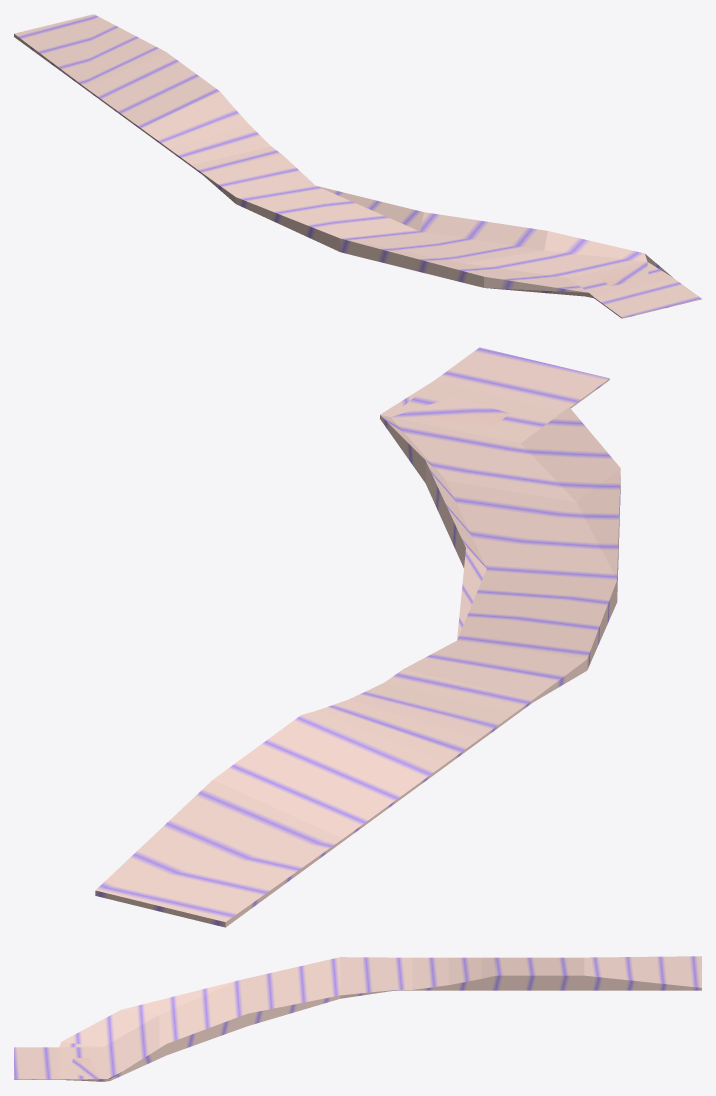
The model's file is easytwirls.fbx.
3 views of the same model, one above another, from view 1: azimuth 30°, elevation 25°; view 2: azimuth 150°, elevation 25°; view 3: azimuth 270°, elevation 25° (orthographic). The views are drawn at different scales.
Visible parts, largest first — view 1: Cube; view 2: Cube; view 3: Cube.
Boxes of the visible parts, <box> form: Cube: <box>14,14,701,318</box>; Cube: <box>95,347,620,927</box>; Cube: <box>14,956,701,1081</box>.
Bounding box in the file's own units: 16954 × 2372 × 46207.
